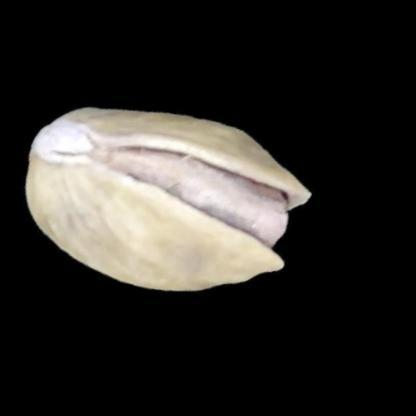pistachio: (25, 106, 310, 293)
